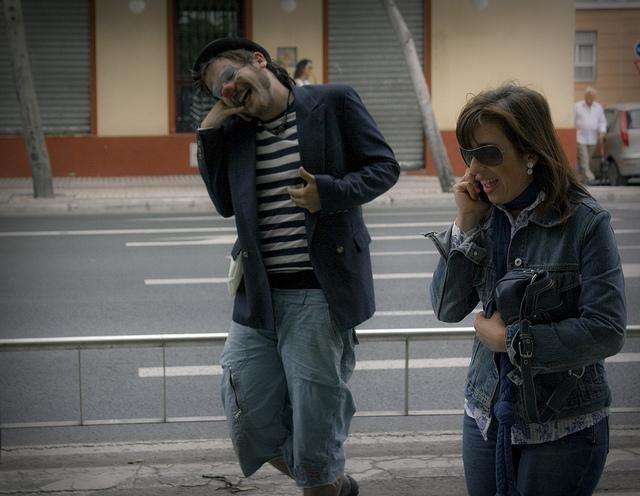car: (589, 104, 640, 188)
